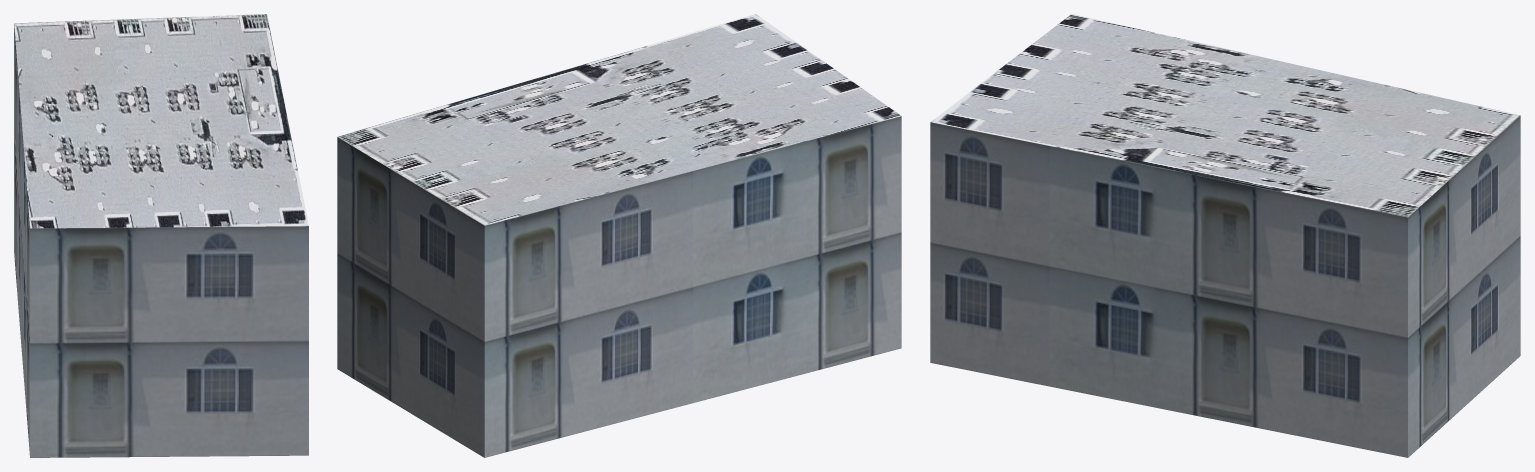
Rendered from ResTex__1908.fbx.
3 views of the same model, side by side, from view 1: azimuth 30°, elevation 25°; view 2: azimuth 150°, elevation 25°; view 3: azimuth 270°, elevation 25° (orthographic). The views are drawn at different scales.
Parts seen in each view (by area): view 1: CityEngineMaterial_17_m, CityEngineMaterial_4_m; view 2: CityEngineMaterial_17_m, CityEngineMaterial_4_m; view 3: CityEngineMaterial_17_m, CityEngineMaterial_4_m.
Part boxes in pixels (bbox=[...]): CityEngineMaterial_17_m: bbox=[14, 24, 308, 457]; CityEngineMaterial_4_m: bbox=[14, 14, 308, 228]; CityEngineMaterial_17_m: bbox=[337, 116, 901, 457]; CityEngineMaterial_4_m: bbox=[337, 14, 900, 225]; CityEngineMaterial_17_m: bbox=[930, 115, 1520, 457]; CityEngineMaterial_4_m: bbox=[930, 14, 1519, 217].
Bounding box in the file's own units: 10.87 × 6 × 13.34.
2 materials, 2 textured.
